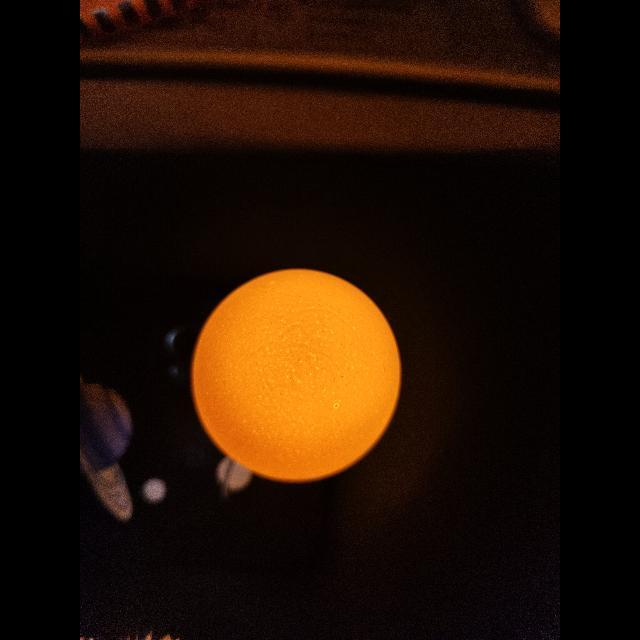AA - Premium: (193, 269, 401, 481)
